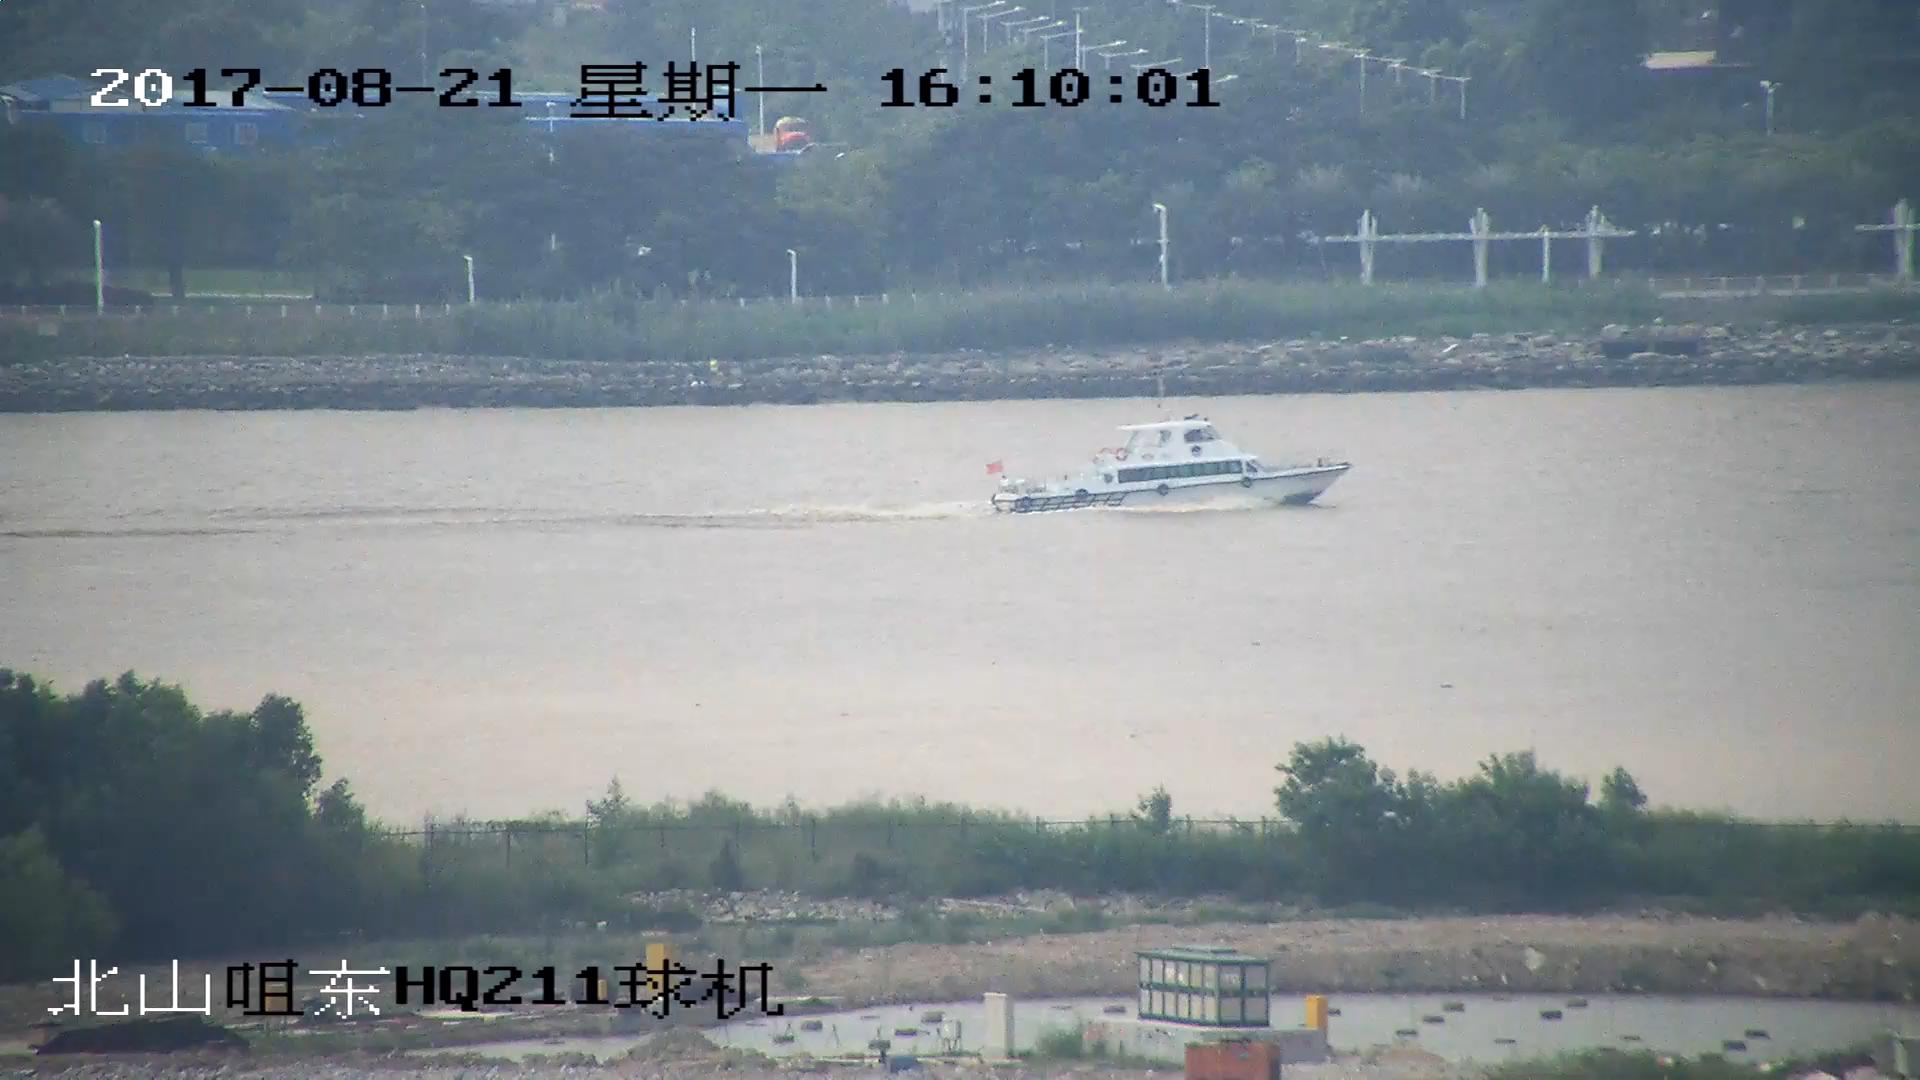passenger ship: (986, 401, 1346, 517)
